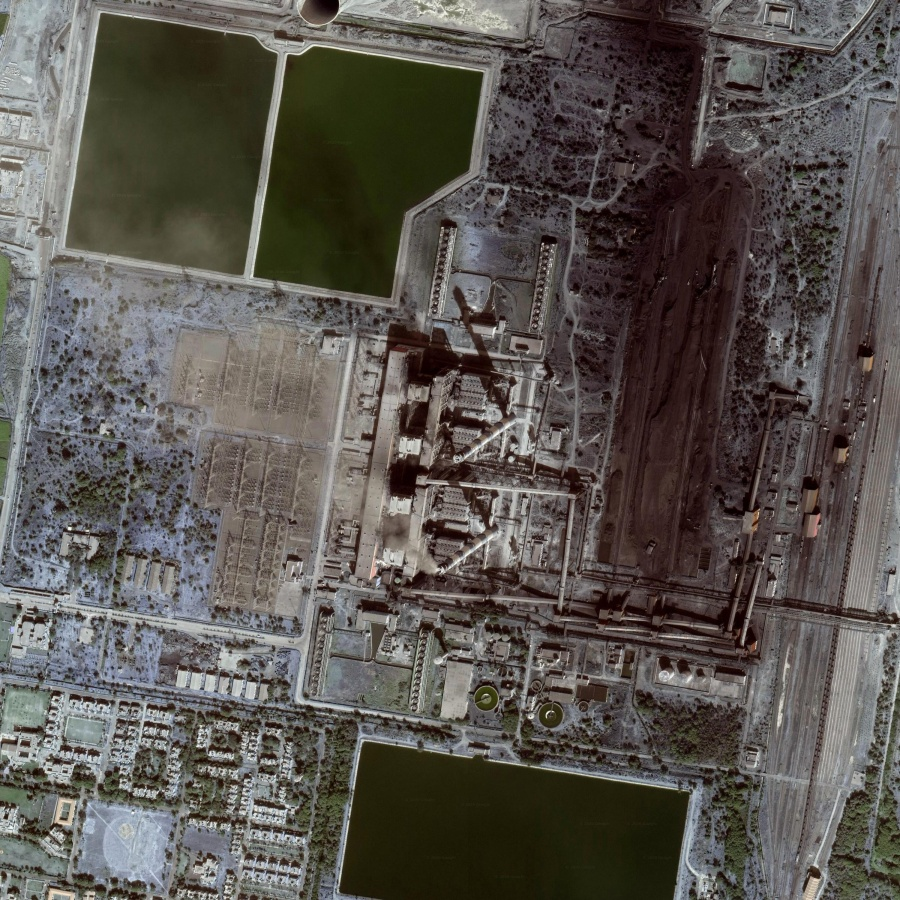PowerPlant: (365, 139, 808, 646), (52, 8, 490, 316)
